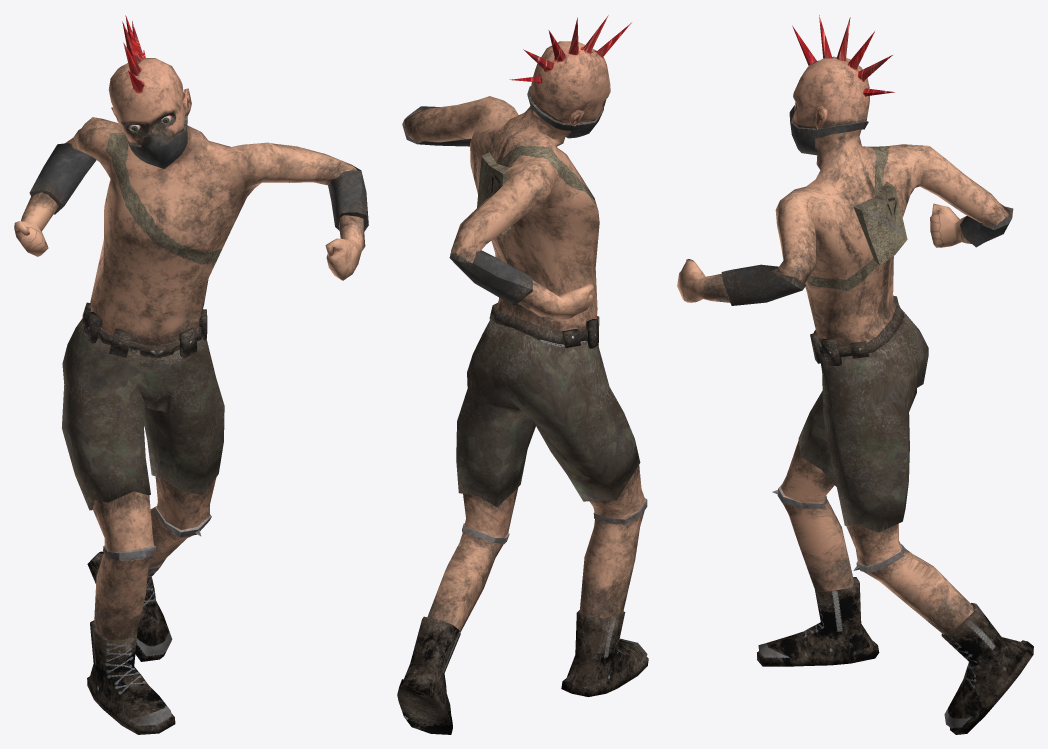
File: Anim_ataque_d2_npc2.0037.obj
3 views of the same model, side by side, from view 1: azimuth 30°, elevation 25°; view 2: azimuth 150°, elevation 25°; view 3: azimuth 270°, elevation 25° (orthographic). The views are drawn at different scales.
Parts seen in each view (by area): view 1: polySurface1; view 2: polySurface1; view 3: polySurface1.
Boxes of the visible parts, box(x1,y1,x2,y2) form: polySurface1: box(14, 15, 368, 734); polySurface1: box(397, 15, 648, 734); polySurface1: box(677, 15, 1033, 734).
Size of the model in its own units: 3.95 by 9.98 by 4.78.
Materials: 2 (2 with a texture image).
